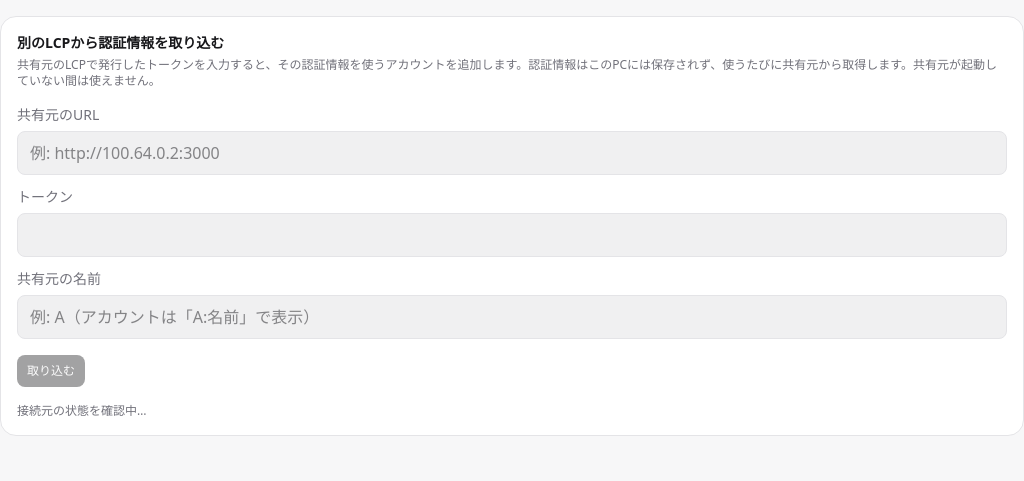
Test: PeerImportSettings › shows the server error, keeps the form for retry and does not report success
The width and height of the screenshot is (1024, 481).
Type " http://100.64.0.2:3000 " into the field labelled "共有元のURL".
click(512, 153); type(" http://100.64.0.2:3000 ")  # box 17,131 -> 1007,175
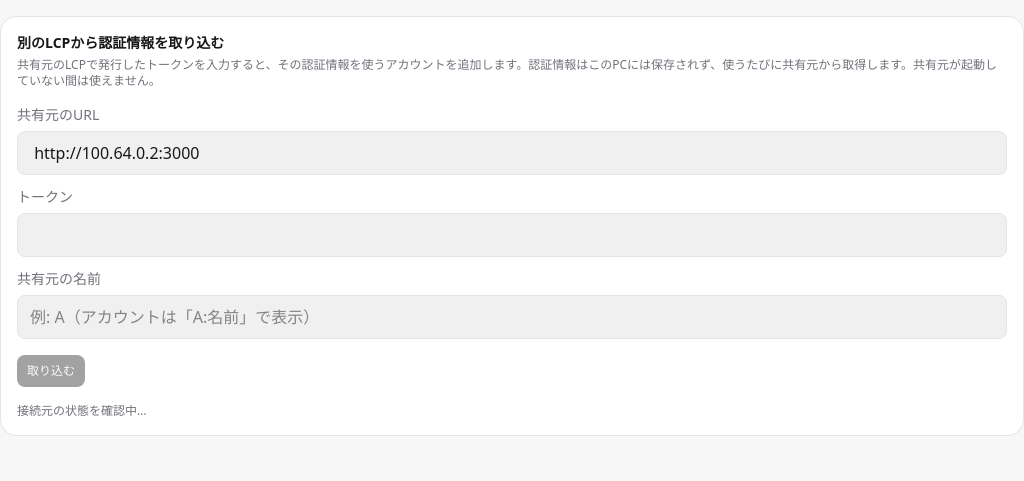
Type " TOKEN " into the password field labelled "トークン".
click(512, 235); type(" TOKEN ")  # box 17,213 -> 1007,257
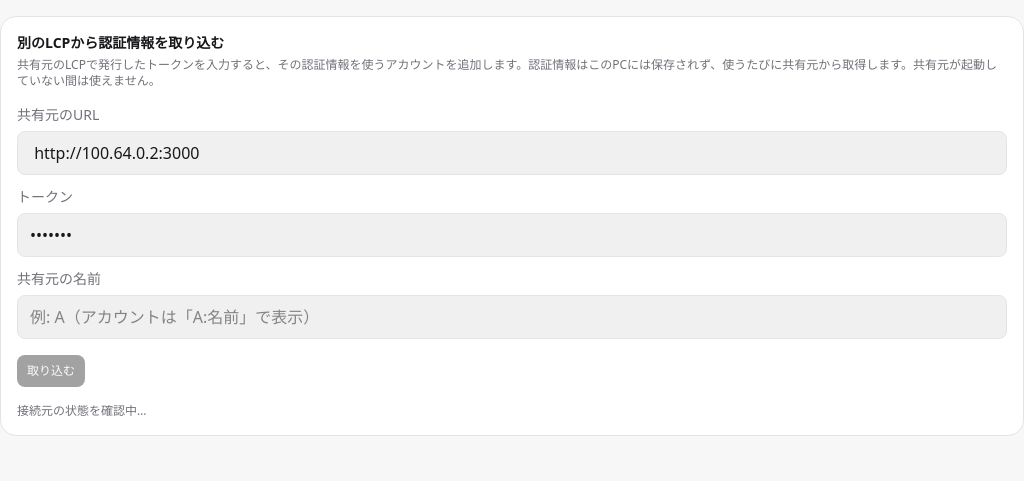
Type " main " into the field labelled "共有元の名前".
click(512, 317); type(" main ")  # box 17,295 -> 1007,339
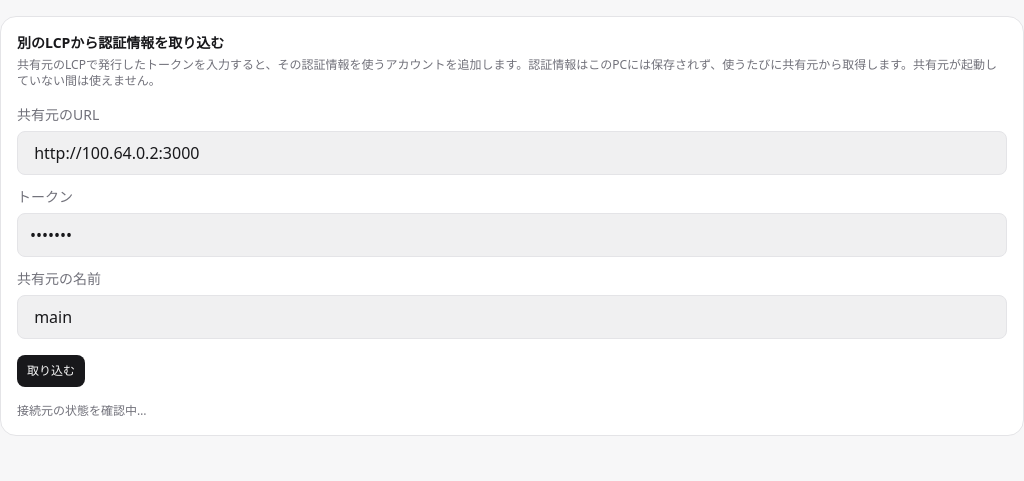
Click the button "取り込む".
click(51, 371)  # box 17,355 -> 85,387
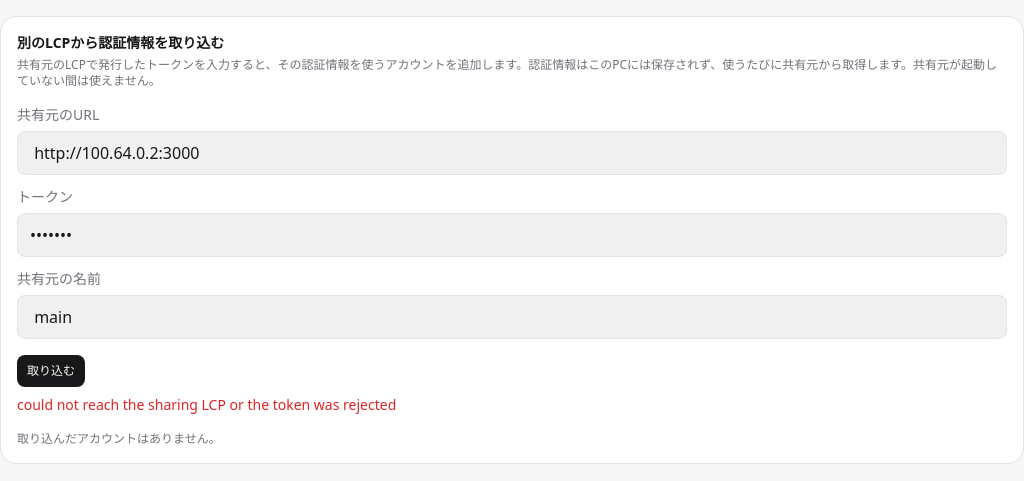
expect the message shows "could not reach": met, box 17,395 -> 396,414
